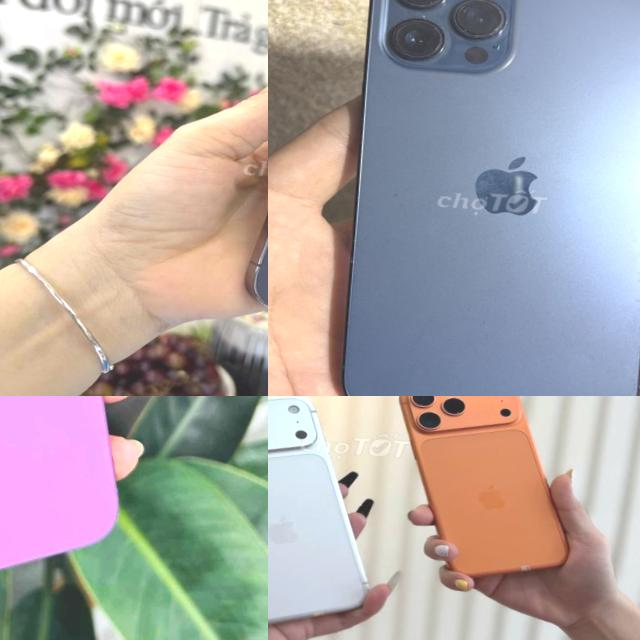gen_12_13: (326, 0, 640, 396)
gen_16: (0, 396, 117, 568)
gen_17: (390, 396, 587, 585)
